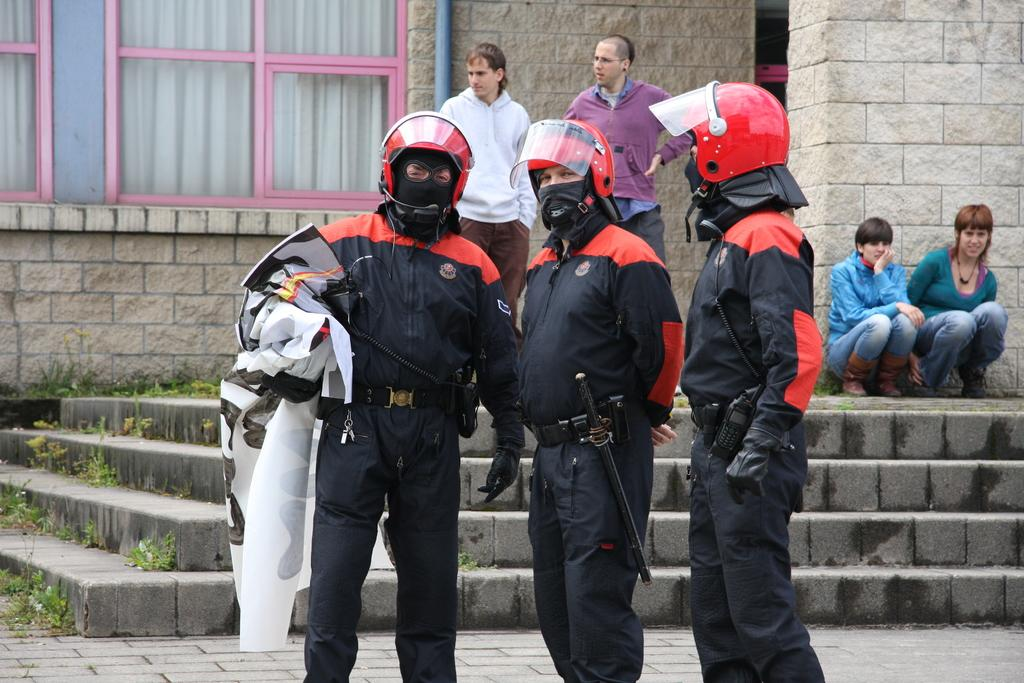helmet: (648, 81, 791, 196), (509, 119, 615, 213), (381, 111, 473, 211)
nohelmet: (592, 33, 636, 89), (466, 42, 507, 100), (953, 204, 993, 260), (855, 217, 894, 269)
